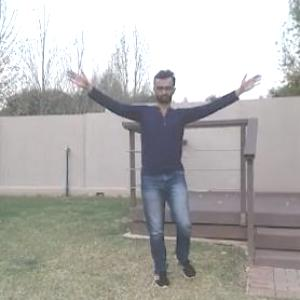takeoff: (65, 64, 265, 285)
